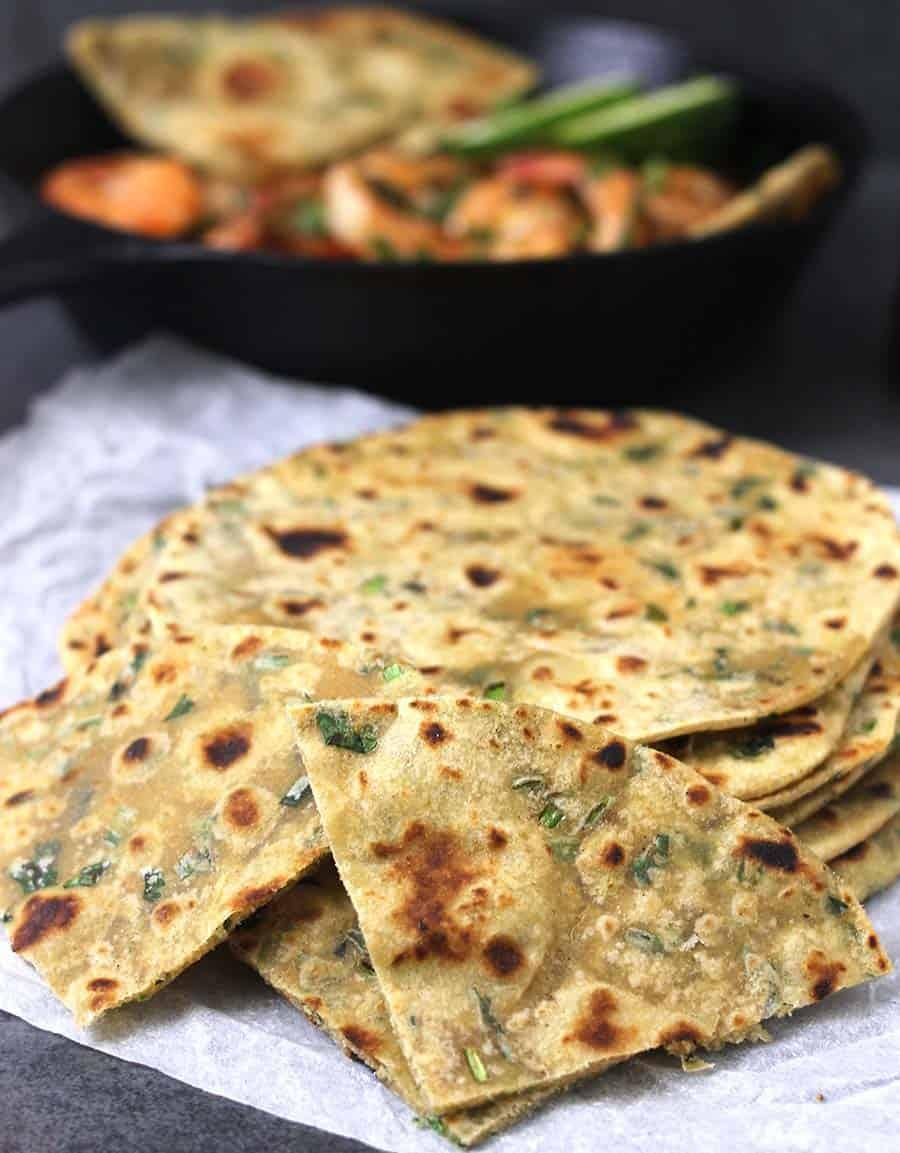chapati: (63, 408, 899, 741), (293, 698, 887, 1115), (2, 626, 421, 1024)
